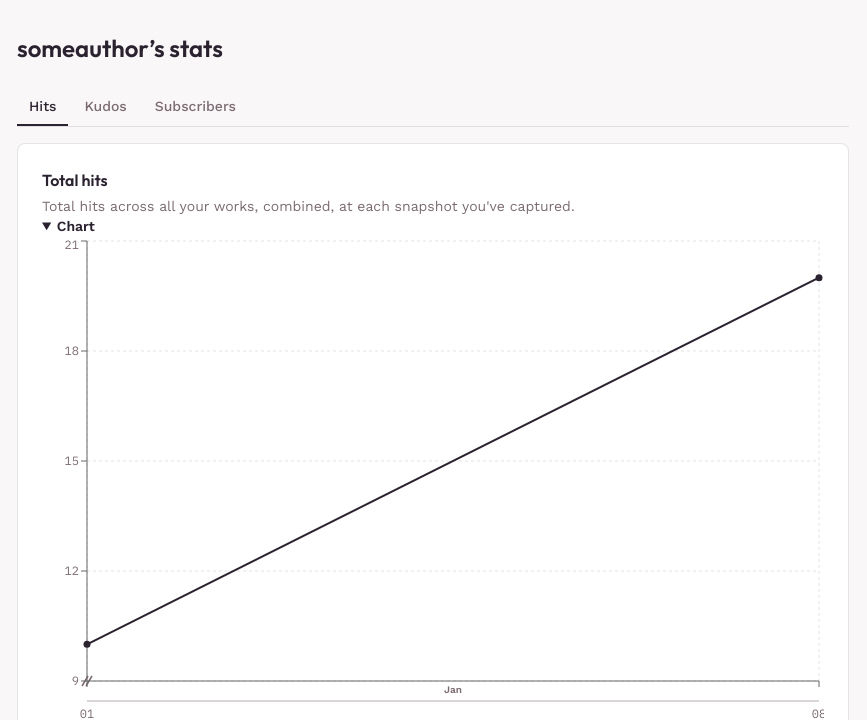
Test: DashboardPage: account-level metric toggle › switching to the Kudos tab swaps the visible chart to Total kudos
This screenshot has width=867, height=720.
Click the tab "Kudos". click: (106, 107)
box: [72,88,139,126]
(page scrolled)
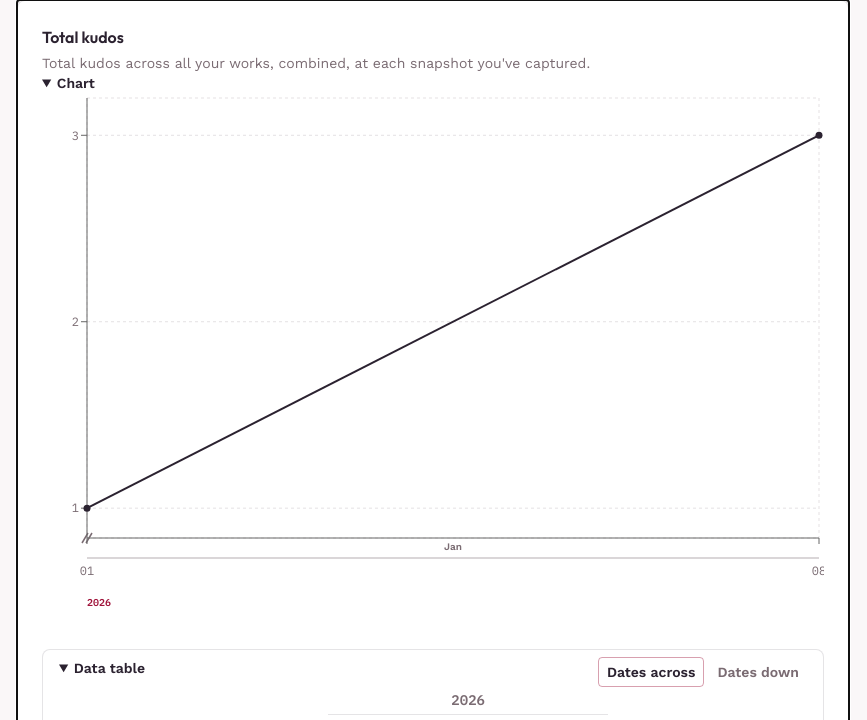
Expected: the heading "Total hits" is gone
